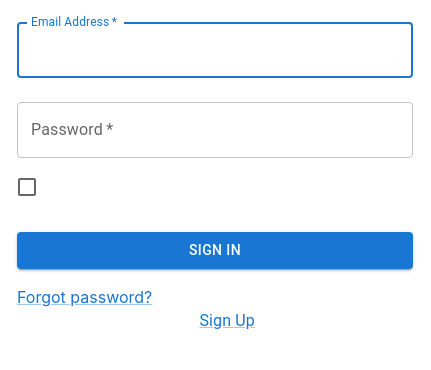
Scenario: LoginUser Component › displays error message when login fails
Type "test@example.com" into the field labelled "Email Address *". click: (215, 50)
box: [17,22,413,78]
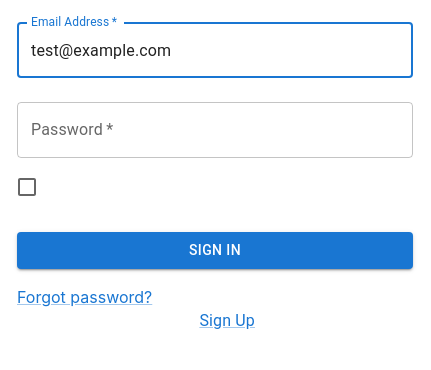
Type "wrongpassword" into the password field labelled "Password *". click: (215, 130)
box: [17,102,413,158]
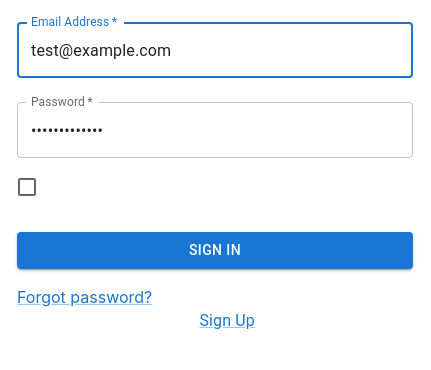
Click the button "Sign In". click: (215, 250)
box: [17,232,413,268]
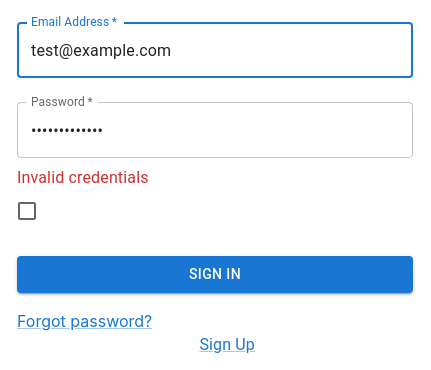
Result: the text "Invalid credentials" is shown at [17,168,149,187]
